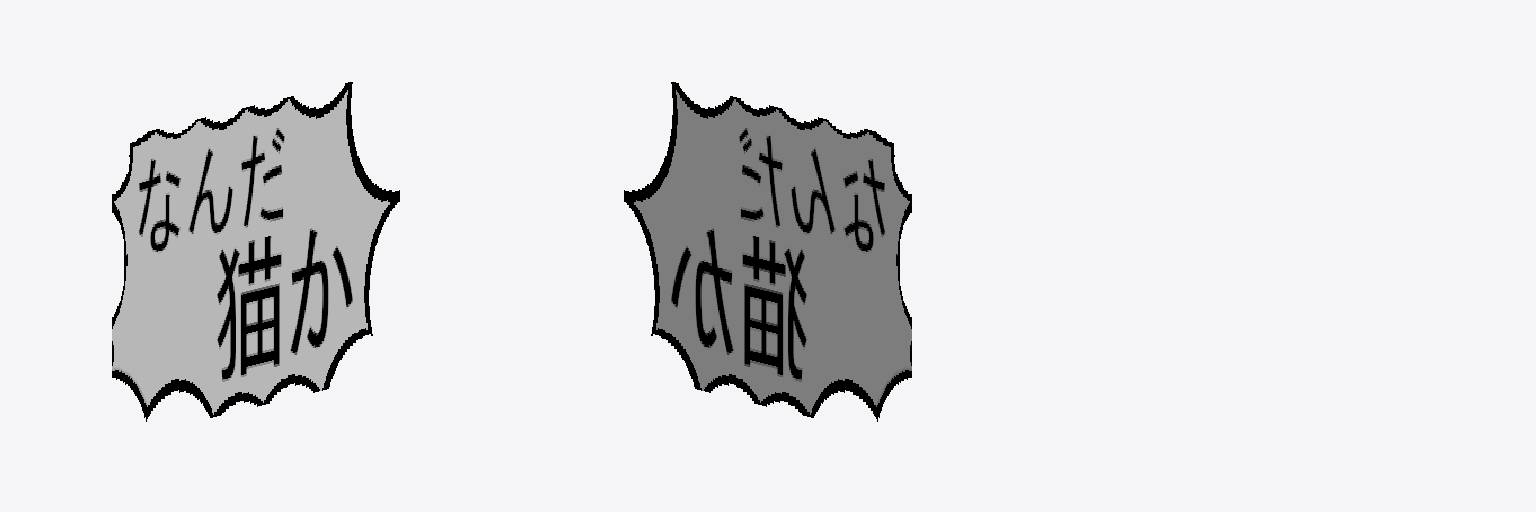
3 renders of one model, left to right at view 1: azimuth 30°, elevation 25°; view 2: azimuth 150°, elevation 25°; view 3: azimuth 270°, elevation 25°, orthographic.
Visible parts, largest first — view 1: Plane; view 2: Plane; view 3: none.
Part boxes in pixels (x1,y1,x2,y2): Plane: (112, 82, 399, 421); Plane: (624, 82, 911, 421).
Bounding box in the file's own units: 2 × 2 × 0.
Materials: 1 (1 with a texture image).